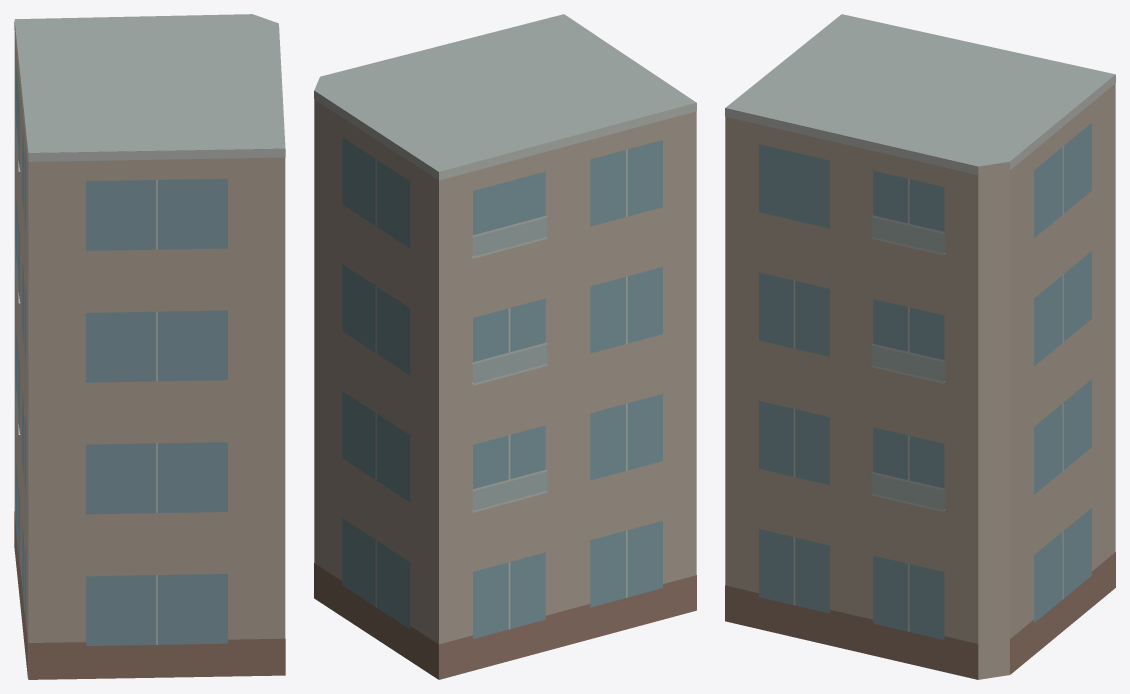
The model's file is survey-upis-33026086.glb.
3 renders of one model, left to right at view 1: azimuth 30°, elevation 25°; view 2: azimuth 150°, elevation 25°; view 3: azimuth 270°, elevation 25°, orthographic. The views are drawn at different scales.
Visible parts, largest first — view 1: survey-upis-33026086.tmp; view 2: survey-upis-33026086.tmp; view 3: survey-upis-33026086.tmp.
Boxes of the visible parts, x1,y1,x2,y2 form: survey-upis-33026086.tmp: (14,14,285,679); survey-upis-33026086.tmp: (314,14,696,679); survey-upis-33026086.tmp: (725,14,1115,679).
Bounding box in the file's own units: 9.18 × 14.4 × 9.94.
